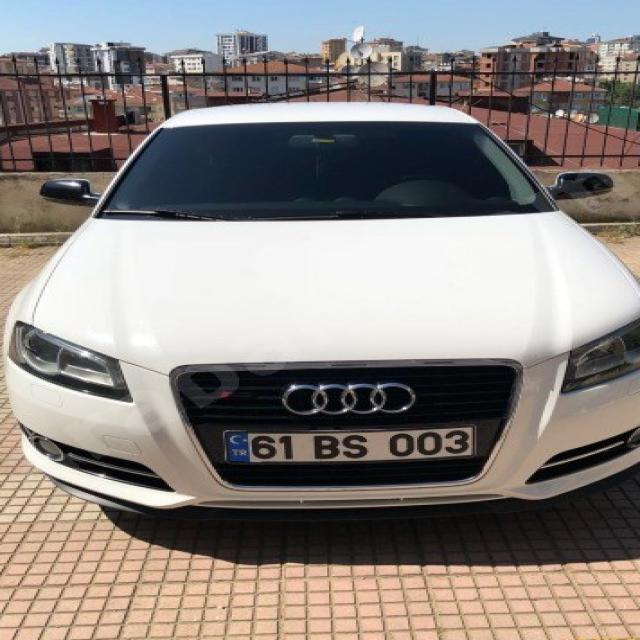license_plate: (223, 425, 478, 462)
